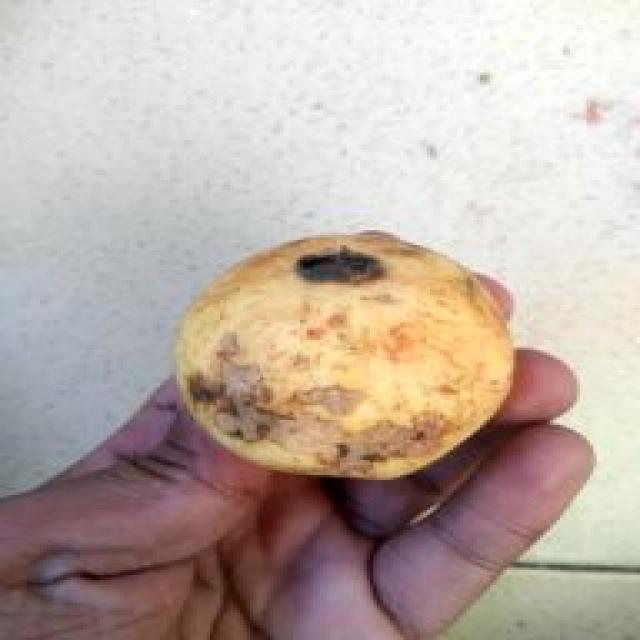Bad_Guava: (175, 231, 513, 478)
